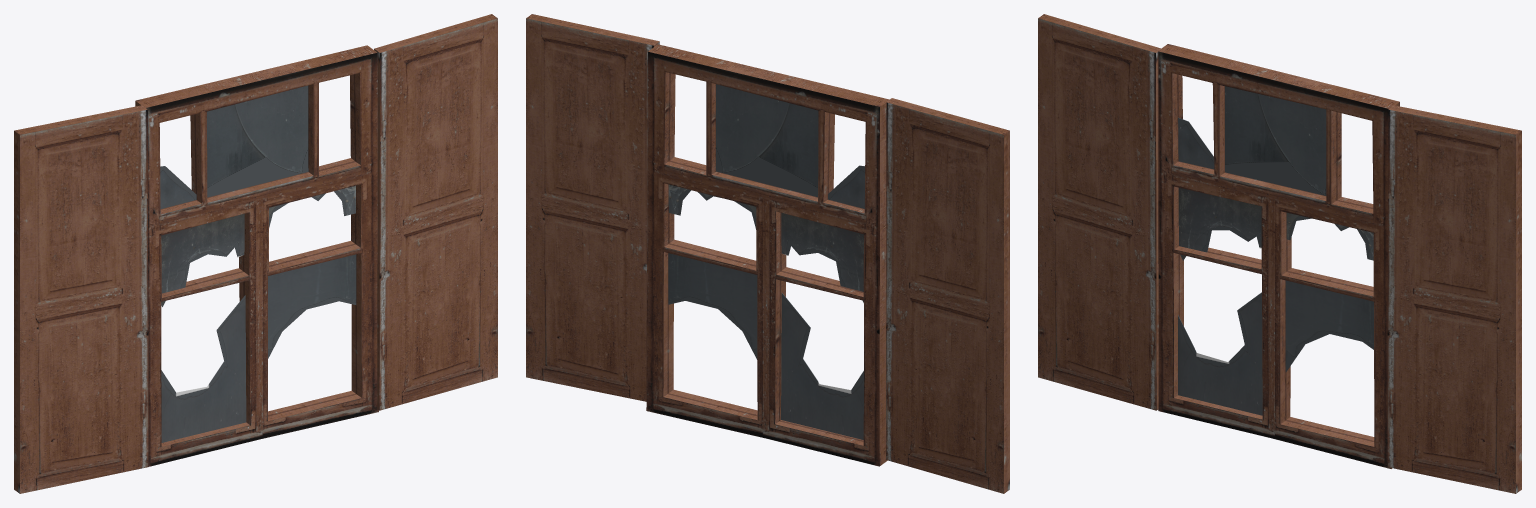
File: Windows_06_2.FBX
The picture shows the model from 3 angles, left to right: view 1: azimuth 30°, elevation 25°; view 2: azimuth 150°, elevation 25°; view 3: azimuth 330°, elevation 25°; orthographic projection.
Visible parts, largest first — view 1: Windows_06_2, Windows_06_2glass (×6); view 2: Windows_06_2, Windows_06_2glass (×6); view 3: Windows_06_2, Windows_06_2glass (×6).
Part boxes in pixels (box(x1,y1,x2,y2)): Windows_06_2: box(14, 14, 497, 493); Windows_06_2glass (×6): box(160, 85, 356, 442); Windows_06_2: box(526, 14, 1009, 493); Windows_06_2glass (×6): box(668, 84, 864, 439); Windows_06_2: box(1038, 14, 1521, 493); Windows_06_2glass (×6): box(1178, 86, 1373, 415).
Bounding box in the file's own units: 202 × 9.02 × 146.
2 materials, 2 textured.
